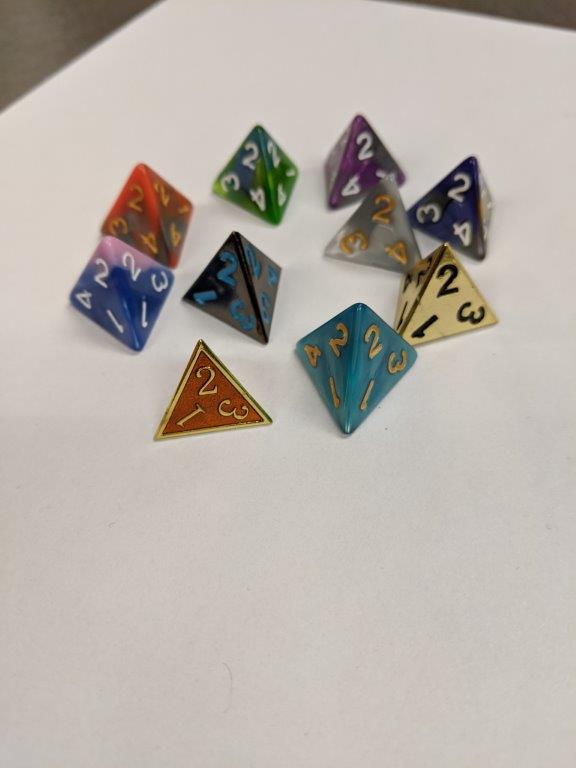d4-2: (290, 295, 423, 437), (148, 336, 276, 445), (62, 231, 175, 353), (180, 232, 287, 346), (388, 241, 502, 346), (315, 174, 424, 279), (95, 162, 197, 267), (406, 152, 492, 265), (209, 122, 299, 224), (319, 109, 406, 208)
